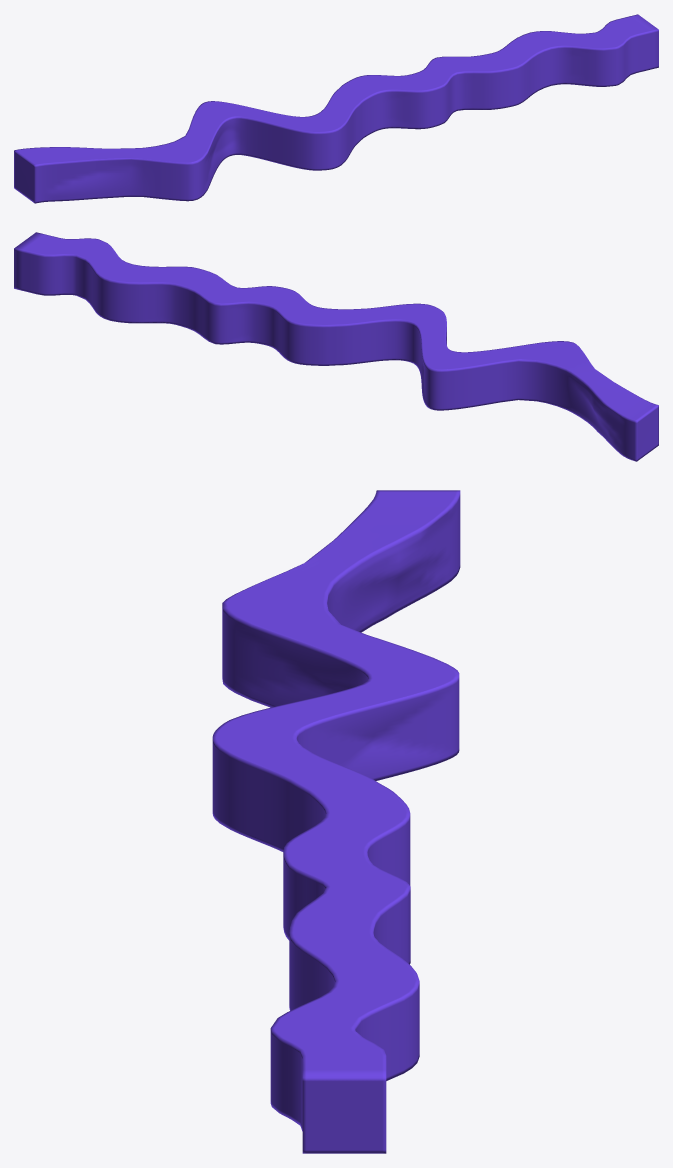
File: blender_one_wall.dae
3 views of the same model, one above another, from view 1: azimuth 30°, elevation 25°; view 2: azimuth 150°, elevation 25°; view 3: azimuth 270°, elevation 25° (orthographic). The views are drawn at different scales.
Visible parts, largest first — view 1: Cube; view 2: Cube; view 3: Cube.
Part boxes in pixels (x1,y1,x2,y2): Cube: [14, 14, 658, 203]; Cube: [14, 232, 658, 461]; Cube: [212, 490, 460, 1153].
Size of the model in its own units: 33.37 by 5.91 by 2.1.
